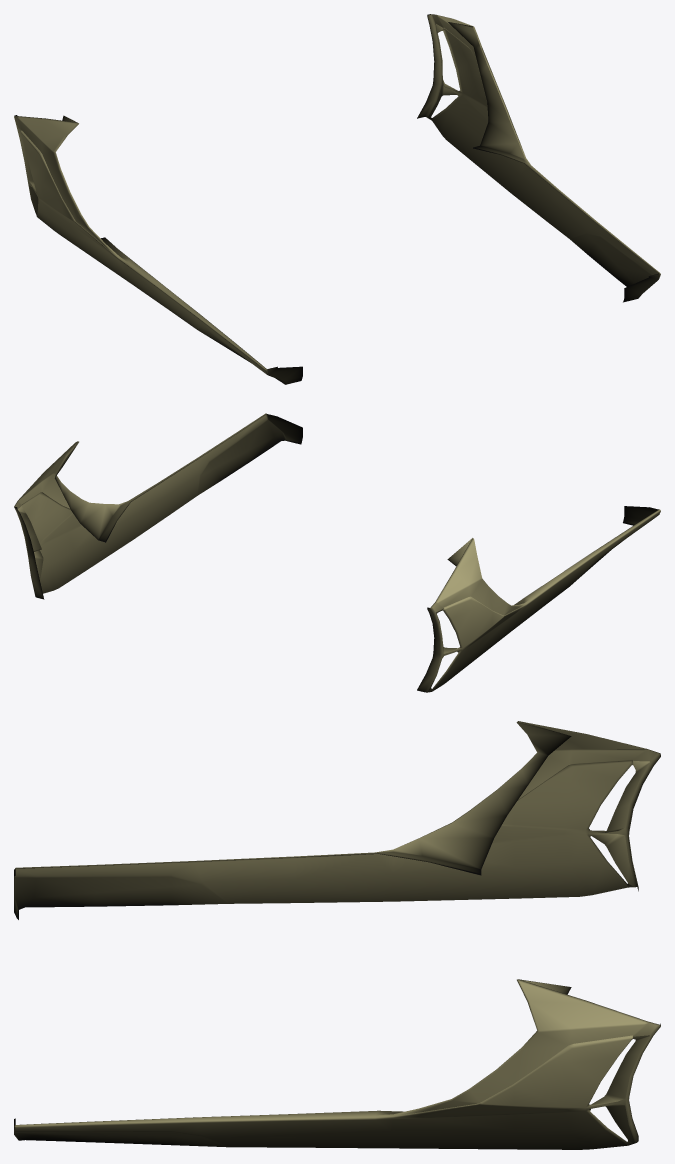
The model's file is Aventador_Skirt_Duco.fbx.
The picture shows the model from 3 angles, top to bottom: view 1: azimuth 30°, elevation 25°; view 2: azimuth 150°, elevation 25°; view 3: azimuth 270°, elevation 25°; orthographic projection. The views are drawn at different scales.
Visible parts, largest first — view 1: Aventador_Skirt_Duco; view 2: Aventador_Skirt_Duco; view 3: Aventador_Skirt_Duco.
Boxes of the visible parts, box(x1,y1,x2,y2) form: Aventador_Skirt_Duco: box(14, 14, 660, 384); Aventador_Skirt_Duco: box(14, 413, 660, 692); Aventador_Skirt_Duco: box(14, 721, 660, 1149).
Bounding box in the file's own units: 210 × 60.74 × 203.
